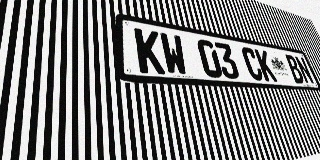0: (196, 38, 224, 78)
3: (214, 42, 240, 79)
B: (284, 54, 306, 84)
C: (240, 46, 265, 81)
K: (134, 28, 165, 74), (254, 49, 278, 82)
N: (294, 56, 315, 84)
W: (159, 32, 189, 76)
